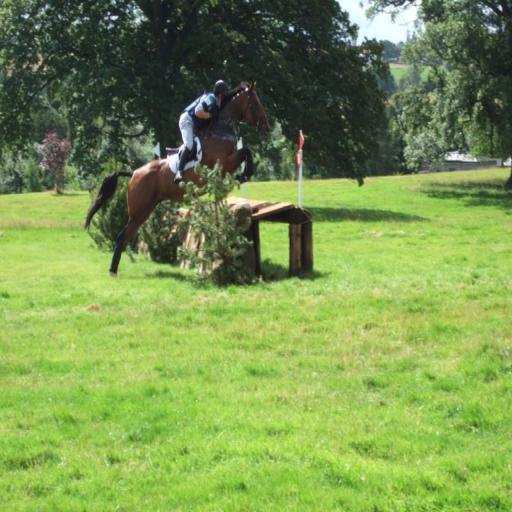horse: (83, 78, 272, 278)
